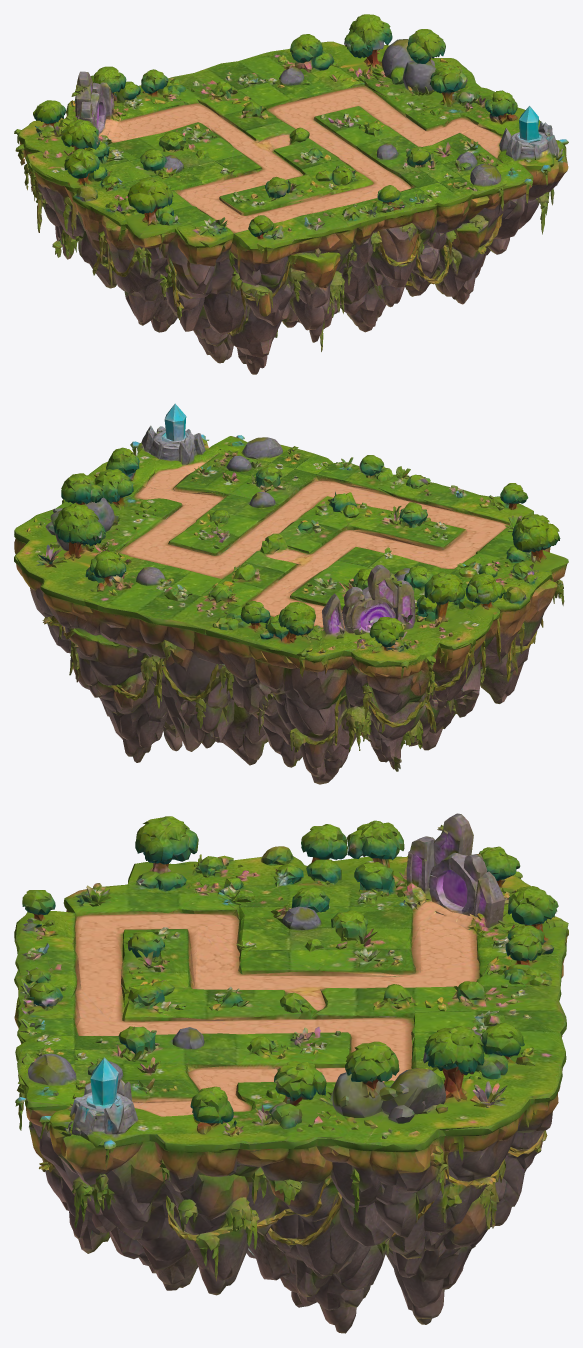
File: meadow.glb
The picture shows the model from 3 angles, top to bottom: view 1: azimuth 30°, elevation 25°; view 2: azimuth 150°, elevation 25°; view 3: azimuth 270°, elevation 25°; orthographic projection. The views are drawn at different scales.
Parts seen in each view (by area): view 1: Mesh_0; view 2: Mesh_0; view 3: Mesh_0.
Part boxes in pixels (left/top/right/bottom): Mesh_0: left=14, top=14, right=568, bottom=374; Mesh_0: left=14, top=403, right=568, bottom=784; Mesh_0: left=14, top=813, right=568, bottom=1333.
Size of the model in its own units: 1.9 by 1.09 by 1.53.
1 material, 1 textured.
